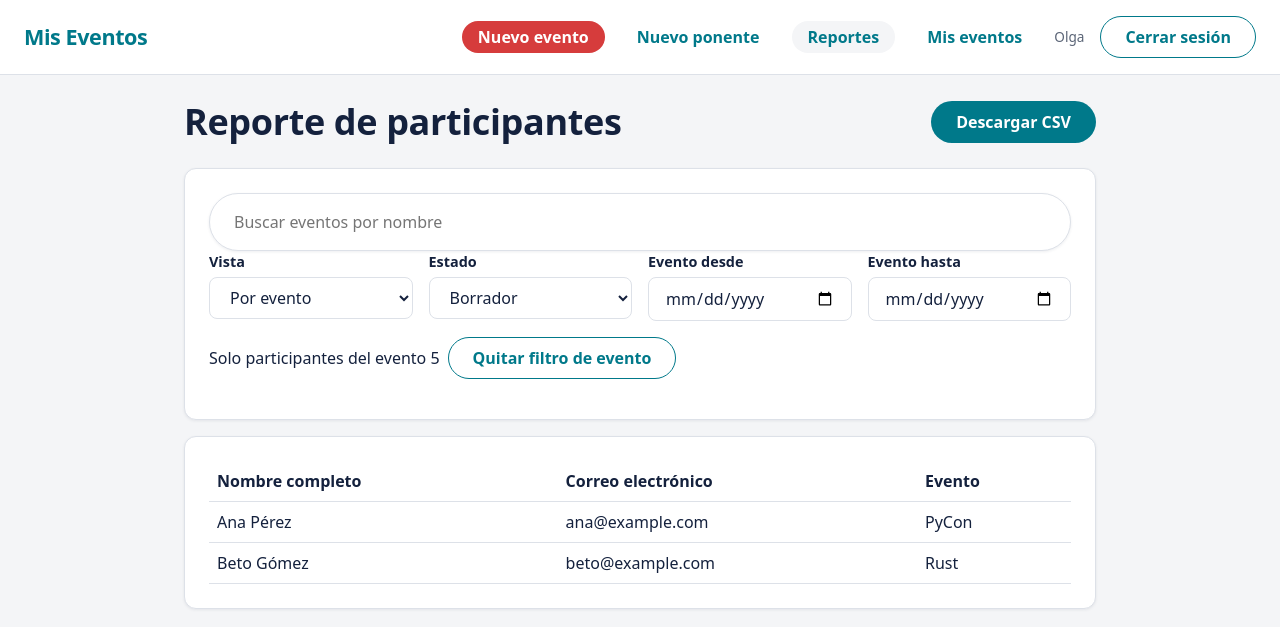
Test: ReportsPage filters › shows the event filter and removes it on request
Check: the text "Solo participantes del evento 5" is shown, box [209, 346, 440, 370]
What coordinates should you click on to do the following:
click the button "Quitar filtro de evento"
I would click on:
 (562, 358)
Its box is [448, 337, 676, 379].
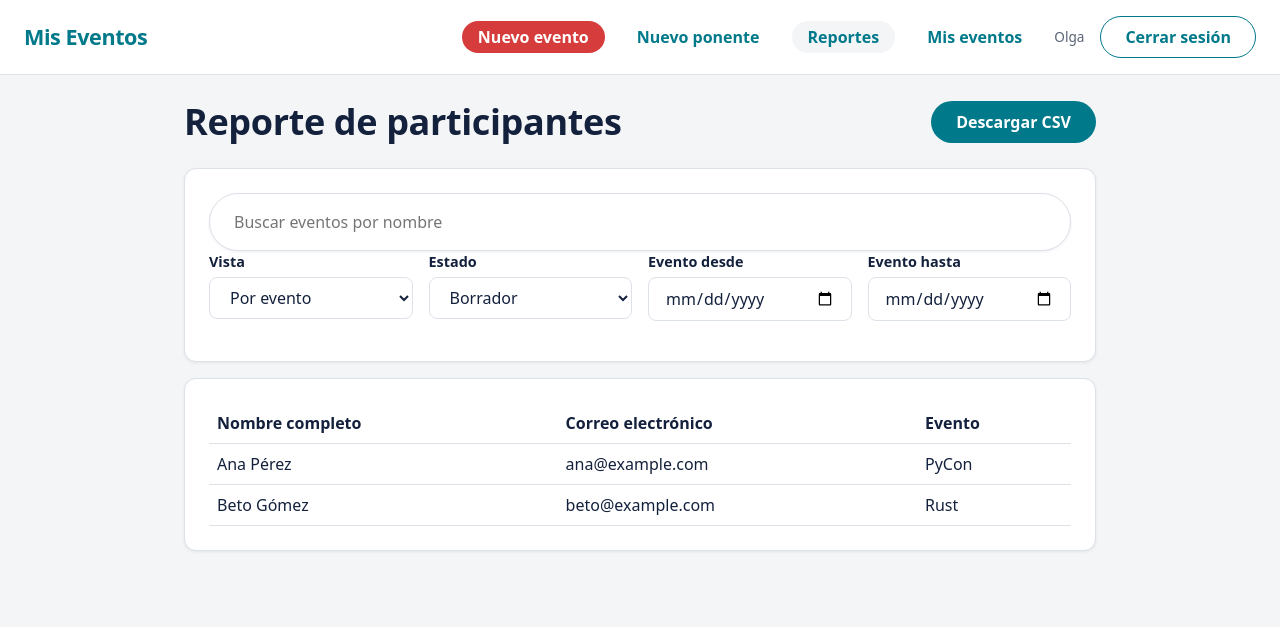
Check: the text "Solo participantes del evento 5" is gone
